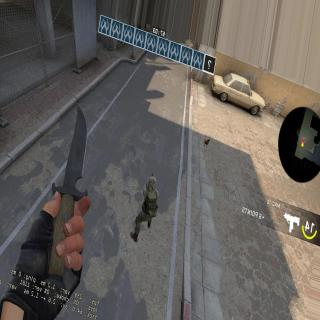CT-Body: (138, 174, 161, 228)
CT-Head: (146, 175, 157, 192)
